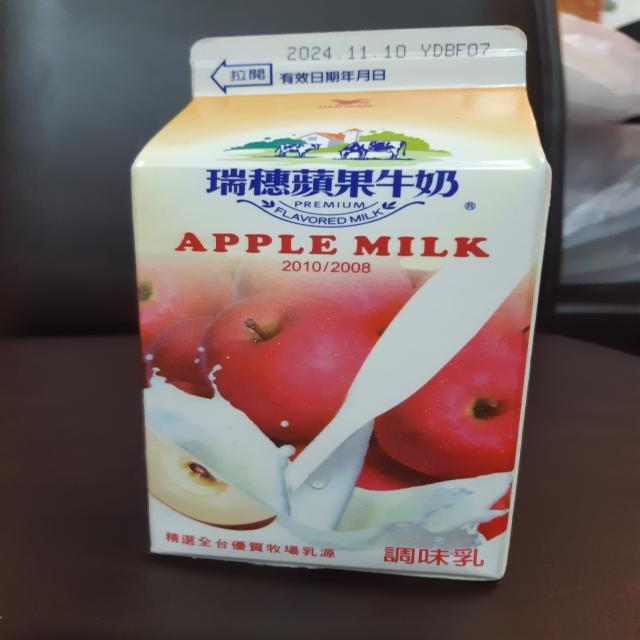RuiSui_AppleMilk: (123, 20, 550, 589)
